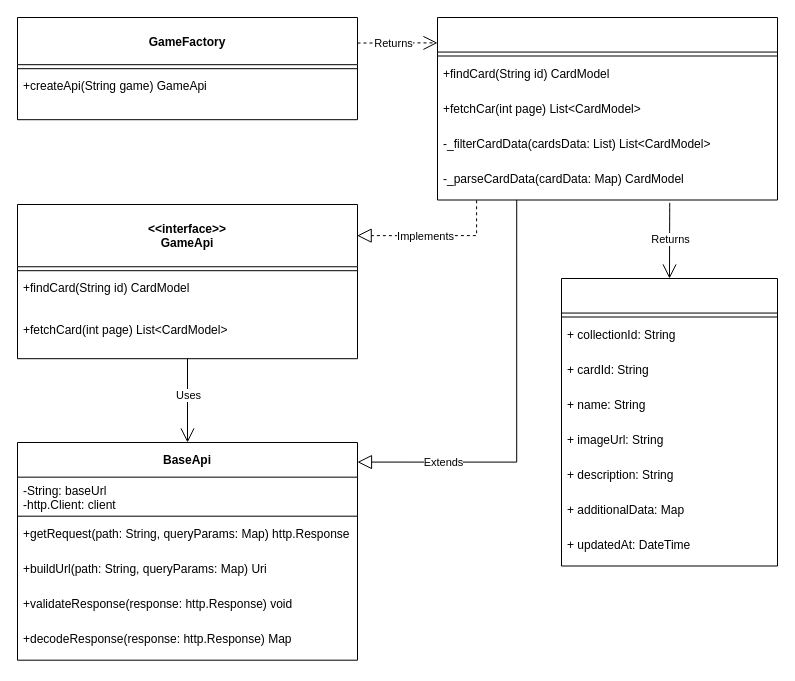
This 795x681 diagram has some shape labels left out. Each missing label, with the box of its shape:
CardModel: (560, 278, 778, 566)
Game: (436, 16, 778, 200)
